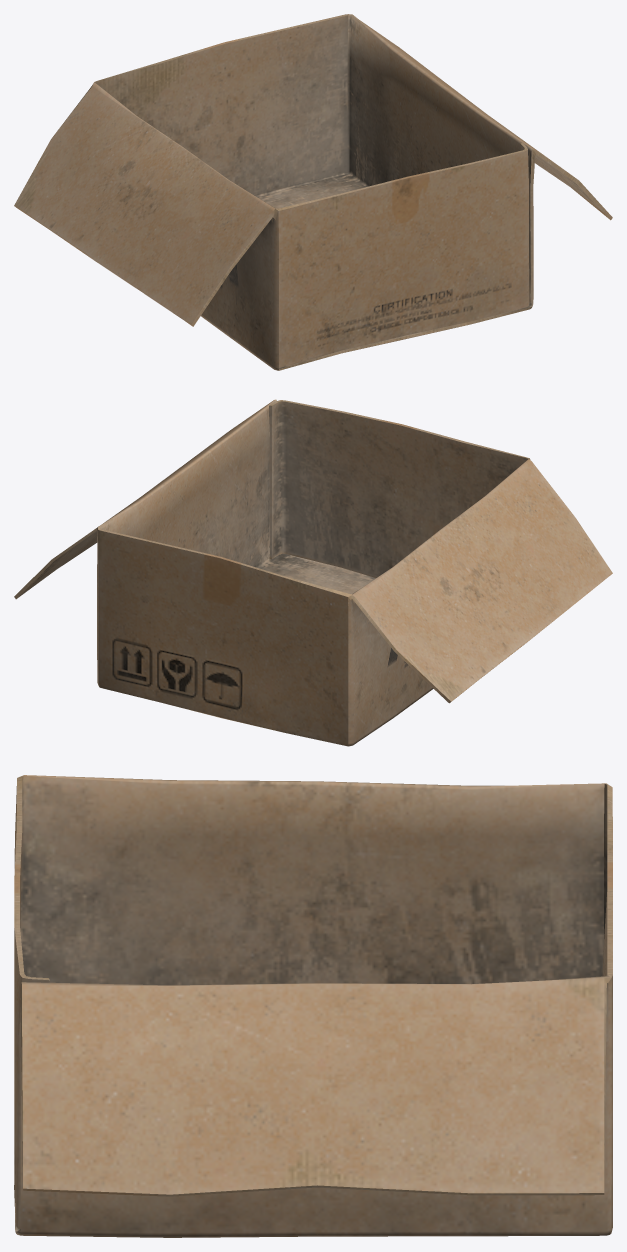
File: SM_CardBoard_Box_04.fbx
3 renders of one model, top to bottom at view 1: azimuth 30°, elevation 25°; view 2: azimuth 150°, elevation 25°; view 3: azimuth 270°, elevation 25°, orthographic. The views are drawn at different scales.
Parts seen in each view (by area): view 1: SM_CardBoard_Box_04_LOD0; view 2: SM_CardBoard_Box_04_LOD0; view 3: SM_CardBoard_Box_04_LOD0.
Boxes of the visible parts, left/top/right/bottom form: SM_CardBoard_Box_04_LOD0: left=14, top=14, right=612, bottom=370; SM_CardBoard_Box_04_LOD0: left=14, top=399, right=612, bottom=746; SM_CardBoard_Box_04_LOD0: left=14, top=775, right=612, bottom=1237.
Size of the model in its own units: 54.59 by 40.3 by 19.68.
